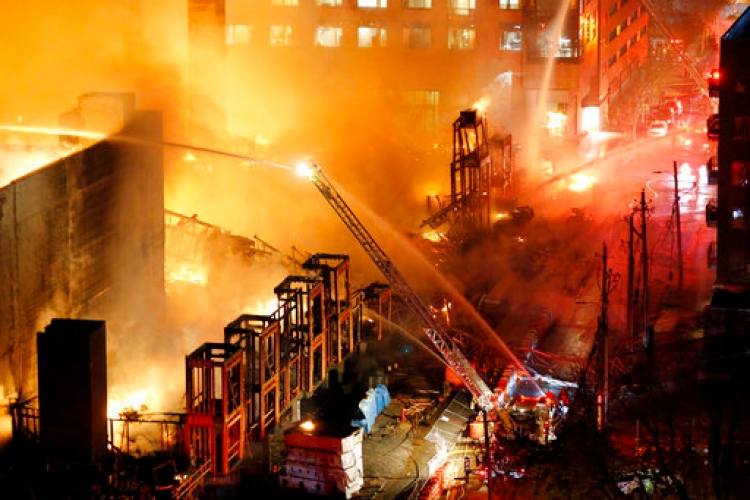Fire: (170, 156, 296, 224), (194, 65, 295, 147), (304, 29, 371, 49)
